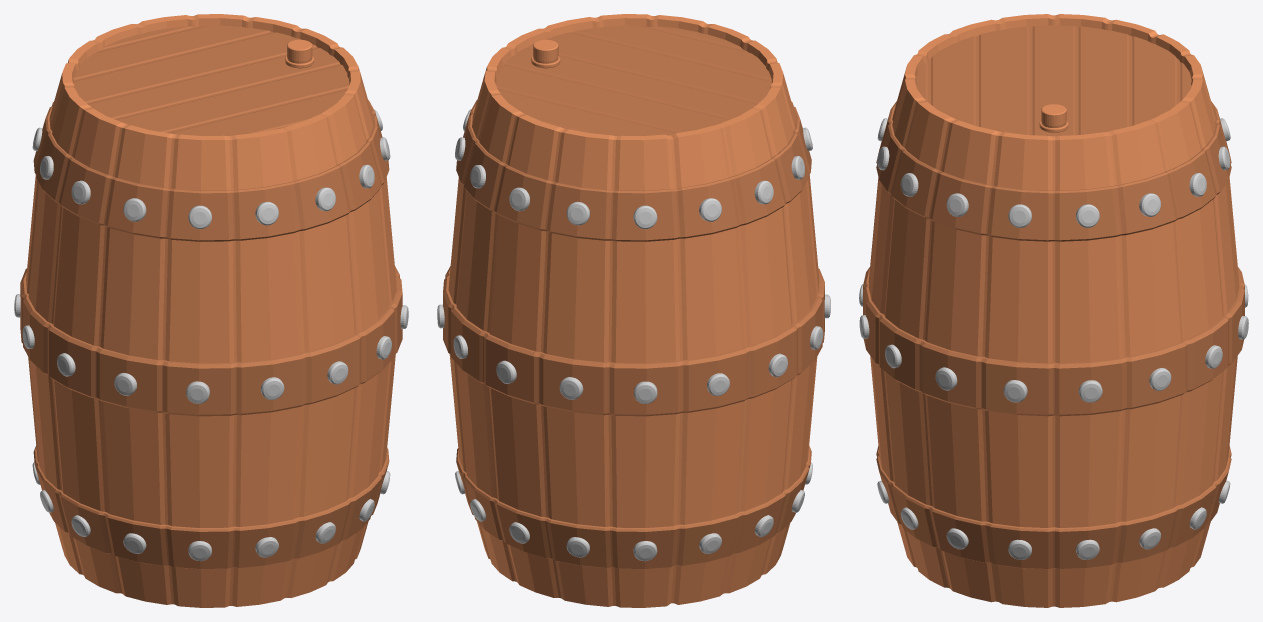
Rendered from Бочка.fbx.
3 renders of one model, left to right at view 1: azimuth 30°, elevation 25°; view 2: azimuth 150°, elevation 25°; view 3: azimuth 270°, elevation 25°, orthographic.
Parts seen in each view (by area): view 1: barrel, circle wooden clip, wooden grid cliping, medium wooden clip, spike, medium spike, clip; view 2: barrel, circle wooden clip, wooden grid cliping, medium wooden clip, spike, medium spike, clip; view 3: barrel, circle wooden clip, wooden grid cliping, medium wooden clip, spike, medium spike, clip.
Boxes of the visible parts, bbox=[...] form: barrel: bbox=[26, 14, 396, 607]; circle wooden clip: bbox=[33, 100, 389, 569]; wooden grid cliping: bbox=[73, 25, 349, 135]; medium wooden clip: bbox=[20, 266, 402, 416]; spike: bbox=[32, 109, 390, 561]; medium spike: bbox=[14, 294, 408, 403]; clip: bbox=[287, 39, 312, 63]; barrel: bbox=[448, 14, 819, 607]; circle wooden clip: bbox=[456, 100, 811, 569]; wooden grid cliping: bbox=[496, 25, 771, 135]; medium wooden clip: bbox=[443, 266, 824, 416]; spike: bbox=[455, 109, 812, 561]; medium spike: bbox=[437, 294, 830, 403]; clip: bbox=[533, 39, 558, 63]; barrel: bbox=[868, 14, 1239, 607]; circle wooden clip: bbox=[876, 101, 1231, 569]; wooden grid cliping: bbox=[916, 25, 1191, 136]; medium wooden clip: bbox=[863, 267, 1244, 416]; spike: bbox=[877, 118, 1230, 559]; medium spike: bbox=[859, 284, 1248, 402]; clip: bbox=[1041, 104, 1066, 127].
Size of the model in its own units: 72.73 by 98.61 by 72.73.
